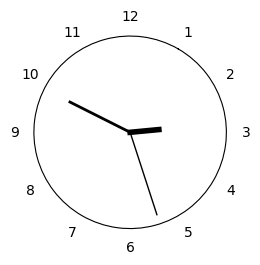12: (122, 9, 139, 23)
circle: (33, 35, 227, 230)
hours: (127, 126, 162, 136)
minutes: (68, 100, 128, 131)
seconds: (131, 136, 157, 217)
